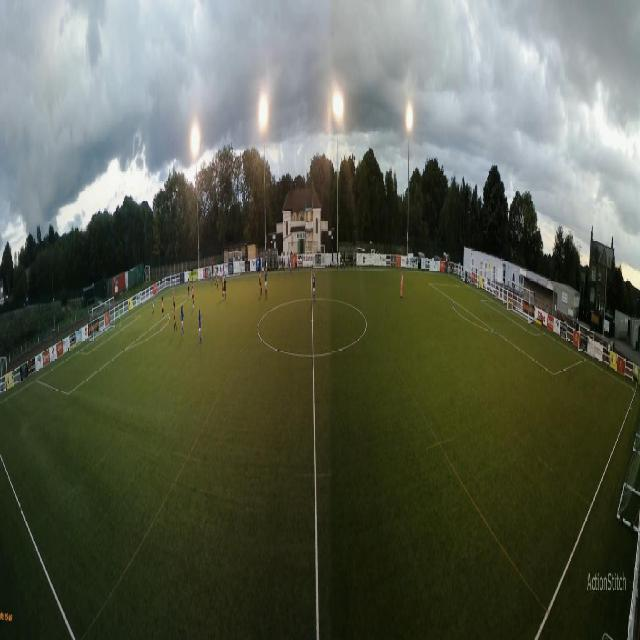player: (313, 264, 317, 315), (399, 268, 404, 305), (198, 308, 202, 344), (174, 302, 178, 331), (264, 267, 267, 296), (162, 296, 165, 324), (181, 306, 184, 334), (214, 269, 218, 290), (289, 251, 292, 278), (259, 268, 262, 295), (222, 274, 225, 301), (118, 303, 121, 329), (188, 278, 190, 300), (192, 284, 194, 305), (224, 276, 226, 297), (210, 267, 212, 286), (220, 265, 222, 284), (153, 296, 154, 316), (173, 286, 174, 304)
